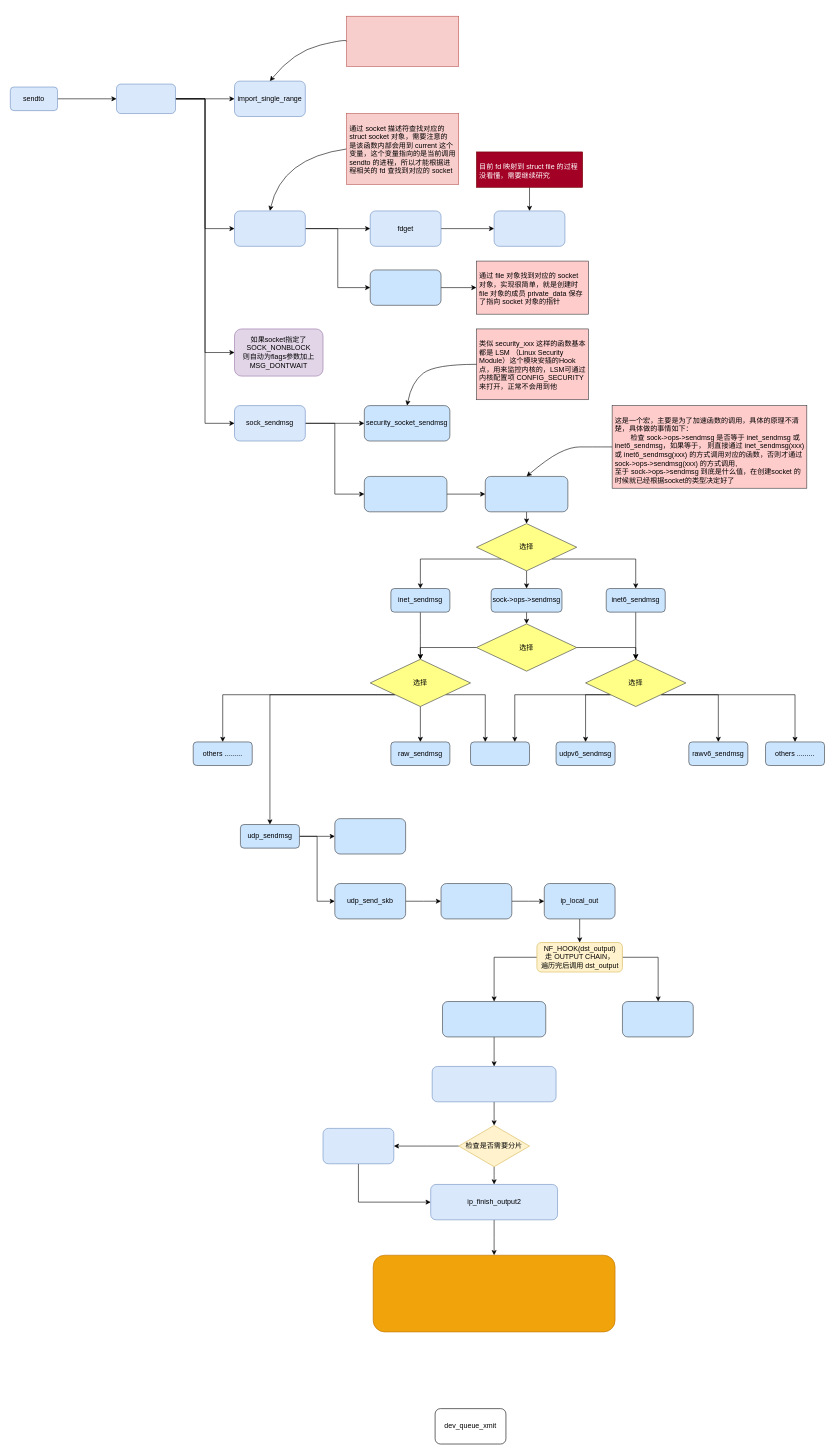
The diagram is 835 pixels wide and 1454 high, and some of its shapes have lost their labels. The shapes that lost their labels are listed below. From the top down, each one's box as (x1, y1, x2, y2) in pixels, then its label:
(346, 16, 459, 66): sendto 内部调用的是 sendmsg， 通过该函数将 sendto 的参数放到 iov 向量中，这样就能转换成 sendmsg 的参数了
(116, 83, 176, 114): __sys_sendto
(234, 210, 305, 246): sockfd_look_light
(494, 210, 565, 246): __to_fd
(370, 269, 441, 305): sock_from_file
(364, 476, 447, 512): sock_sendmsg_nosec
(485, 476, 568, 512): INDIRECT_CALL_INET
(470, 741, 530, 766): tcp_sendmsg
(334, 818, 406, 854): ip_make_skb
(440, 883, 512, 919): ip_send_skb
(442, 1001, 546, 1037): NF_HOOK(ip_finish_output) 走 POSTROUTING CHAIN， 遍历完后调用 ip_finish_output
(622, 1001, 693, 1037): ip6_ouput
(432, 1066, 556, 1102): __ip_finish_output
(322, 1128, 394, 1164): ip_fragment
(373, 1255, 615, 1332): 邻居子系统，进行 IP/MAC 查找，具体过程单独进行分析
